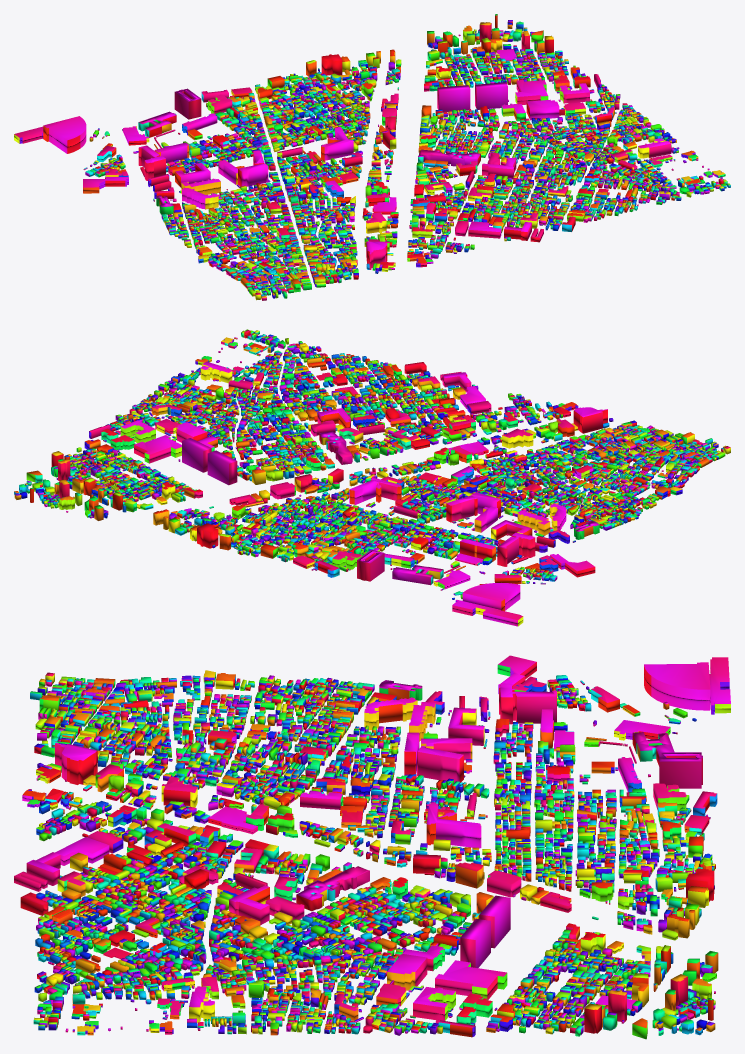
3 renders of one model, top to bottom at view 1: azimuth 30°, elevation 25°; view 2: azimuth 150°, elevation 25°; view 3: azimuth 270°, elevation 25°, orthographic. The views are drawn at different scales.
Parts seen in each view (by area): view 1: BLD_2d693259-a1dc-4f88-95c3-aac23a26724b1; view 2: BLD_2d693259-a1dc-4f88-95c3-aac23a26724b1; view 3: BLD_2d693259-a1dc-4f88-95c3-aac23a26724b1.
Boxes of the visible parts, left/top/right/bottom form: BLD_2d693259-a1dc-4f88-95c3-aac23a26724b1: left=14, top=14, right=730, bottom=300; BLD_2d693259-a1dc-4f88-95c3-aac23a26724b1: left=14, top=329, right=730, bottom=626; BLD_2d693259-a1dc-4f88-95c3-aac23a26724b1: left=14, top=655, right=730, bottom=1039.
Bounding box in the file's own units: 1210 × 48.61 × 980.
